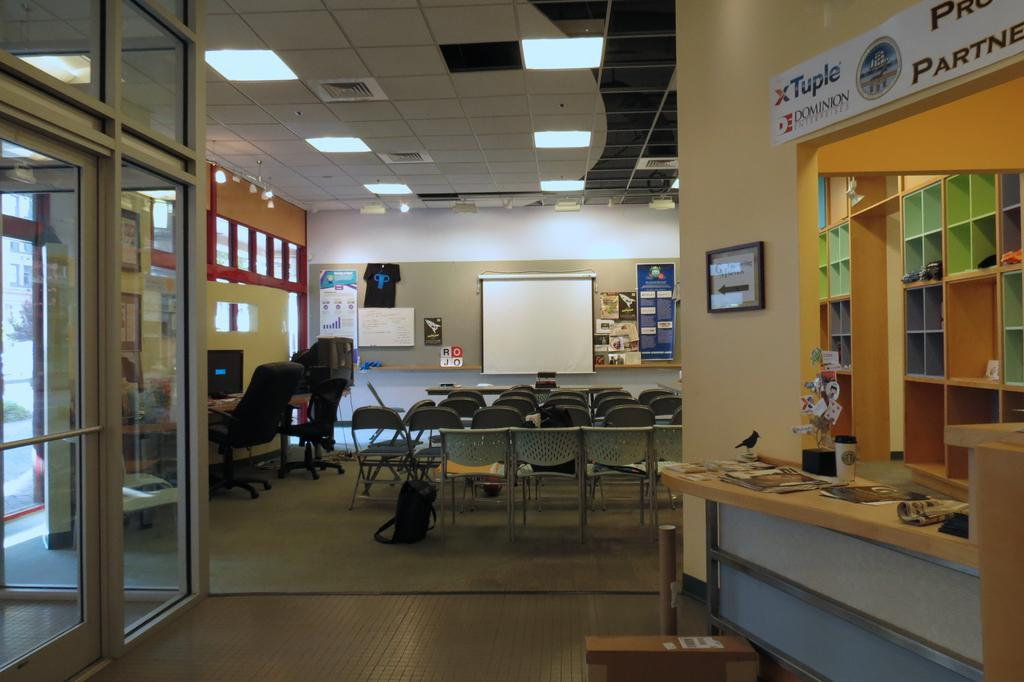Chair: (207, 361, 303, 499), (349, 405, 425, 510), (276, 377, 347, 480)
